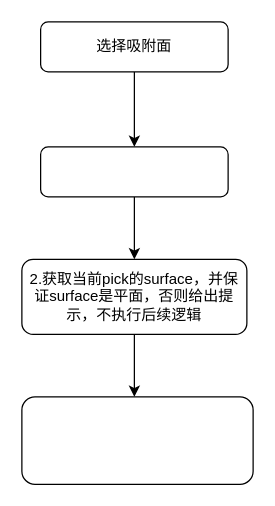
The diagram is 275 pixels wide and 506 high, and some of its shapes have lost their labels. The centre of each missing label's shape, as x and y in pixels:
1.计算当前DIY造型的boundingBox: the point at 133,171
3.计算出与当前pick面平行的且在bounding最大值处的面作为吸附面: the point at 137,440
